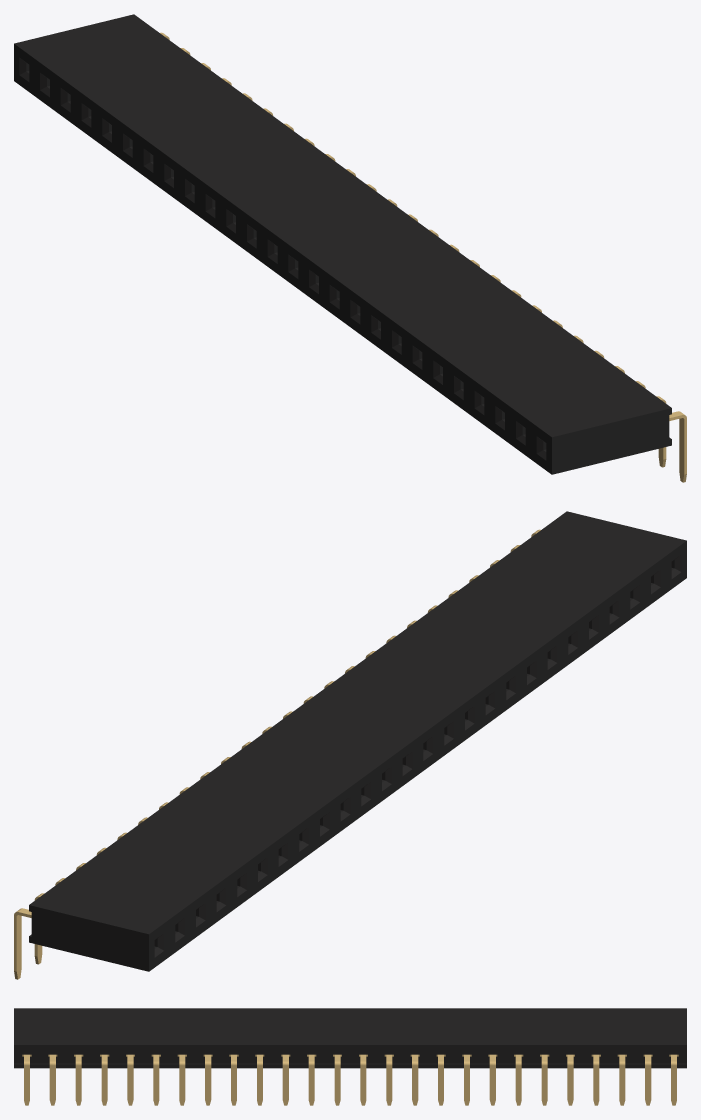
The model's file is kc-pinsocket_1x26_p2.54mm_horizontal.glb.
3 renders of one model, top to bottom at view 1: azimuth 30°, elevation 25°; view 2: azimuth 150°, elevation 25°; view 3: azimuth 270°, elevation 25°, orthographic. The views are drawn at different scales.
Parts seen in each view (by area): view 1: 0_0_0_0, 0.75_0.5_0.25_0.9; view 2: 0_0_0_0, 0.75_0.5_0.25_0.9; view 3: 0_0_0_0, 0.75_0.5_0.25_0.9.
Part boxes in pixels (box(x1,y1,x2,y2)): 0_0_0_0: box(14, 14, 671, 474); 0.75_0.5_0.25_0.9: box(160, 32, 686, 482); 0_0_0_0: box(29, 511, 686, 971); 0.75_0.5_0.25_0.9: box(14, 529, 540, 979); 0_0_0_0: box(14, 1008, 686, 1068); 0.75_0.5_0.25_0.9: box(22, 1054, 678, 1105).
Size of the model in its own units: 1.01 by 0.584 by 6.6.
